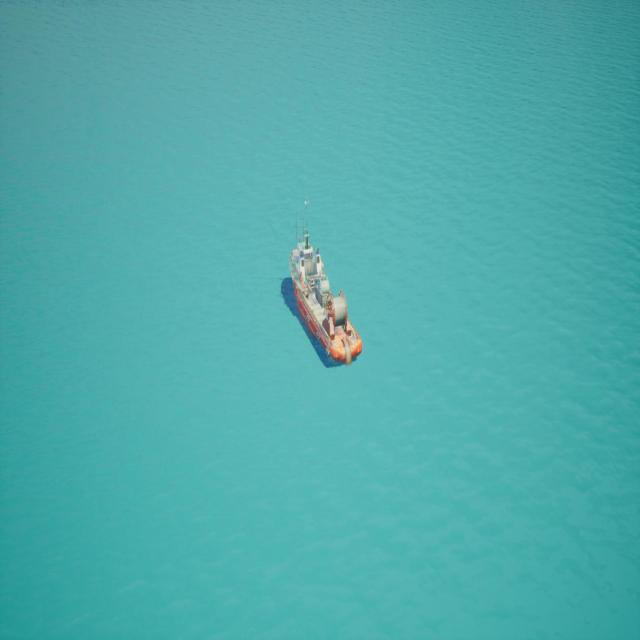tug boat: (285, 194, 344, 372)
